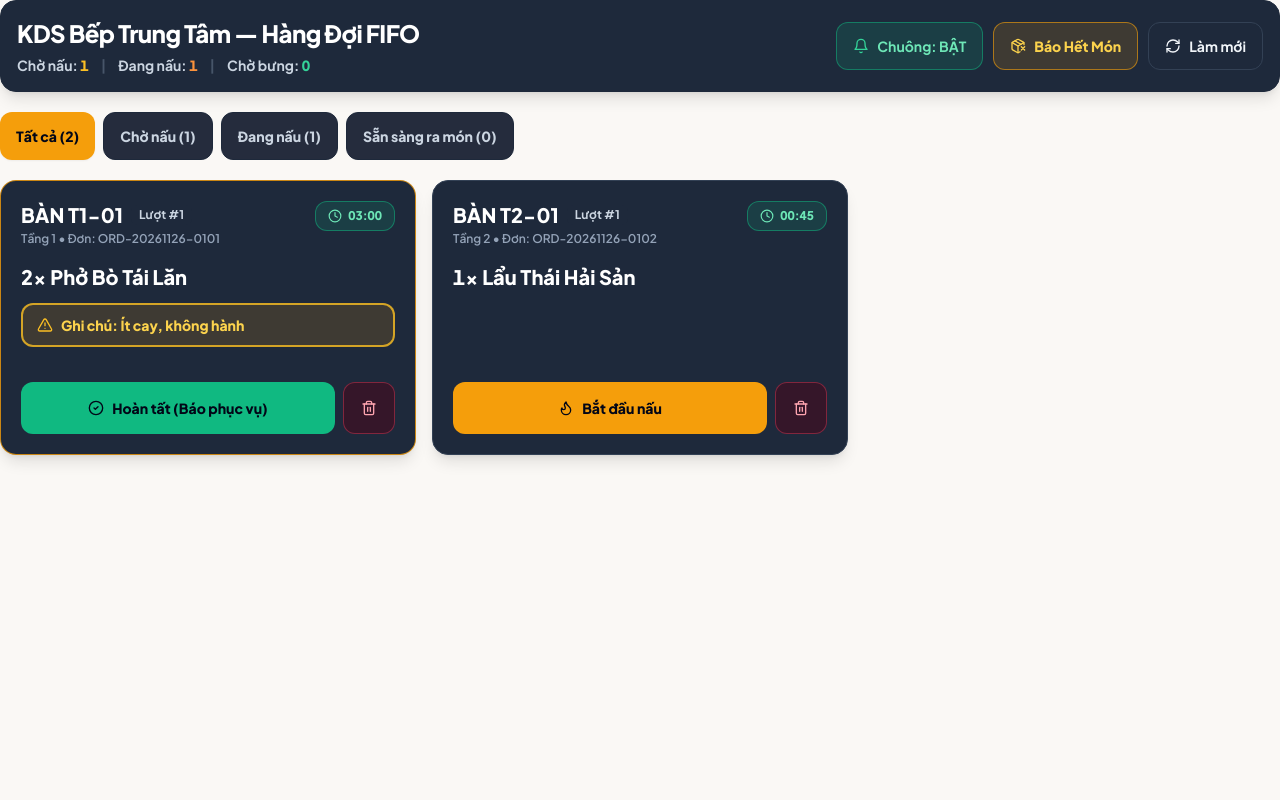
Scenario: KdsBoardPage › renders FIFO tickets with spice notes, transitions COOKING -> READY, and toggles Out-of-Stock
Check: the text "2× Phở Bò Tái Lăn" is shown, box [21,264,187,289]
Check: the text "Ghi chú: Ít cay, không hành" is shown, box [61,314,244,334]
Click the button "Hoàn tất (Báo phục vụ)".
click(178, 408)  # box [21,382,335,434]
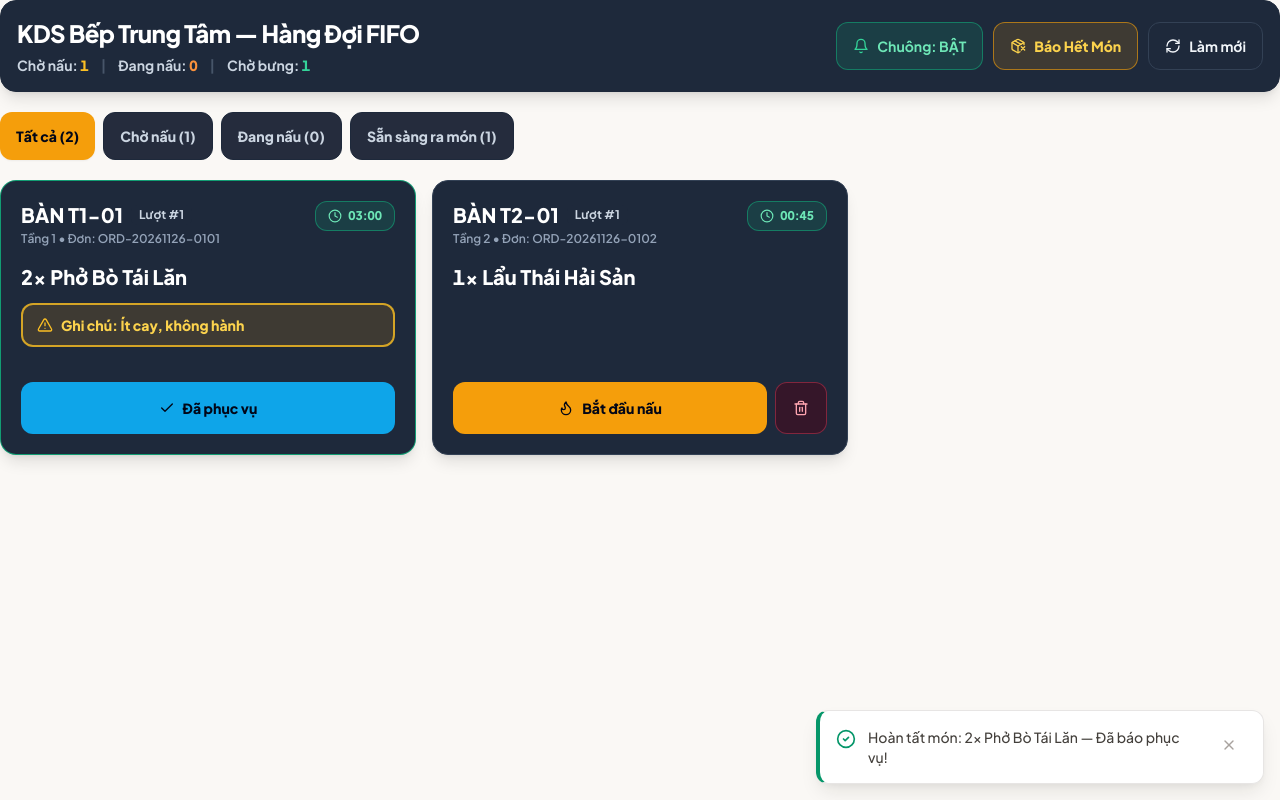
Check: the button "Đã phục vụ" is shown, box [21,382,395,434]
Note: Open Quick Out-of-Stock Drawer ("Báo Hết Món") and lock dish
Click the button "Báo Hết Món".
click(1066, 46)  # box [993,22,1138,70]
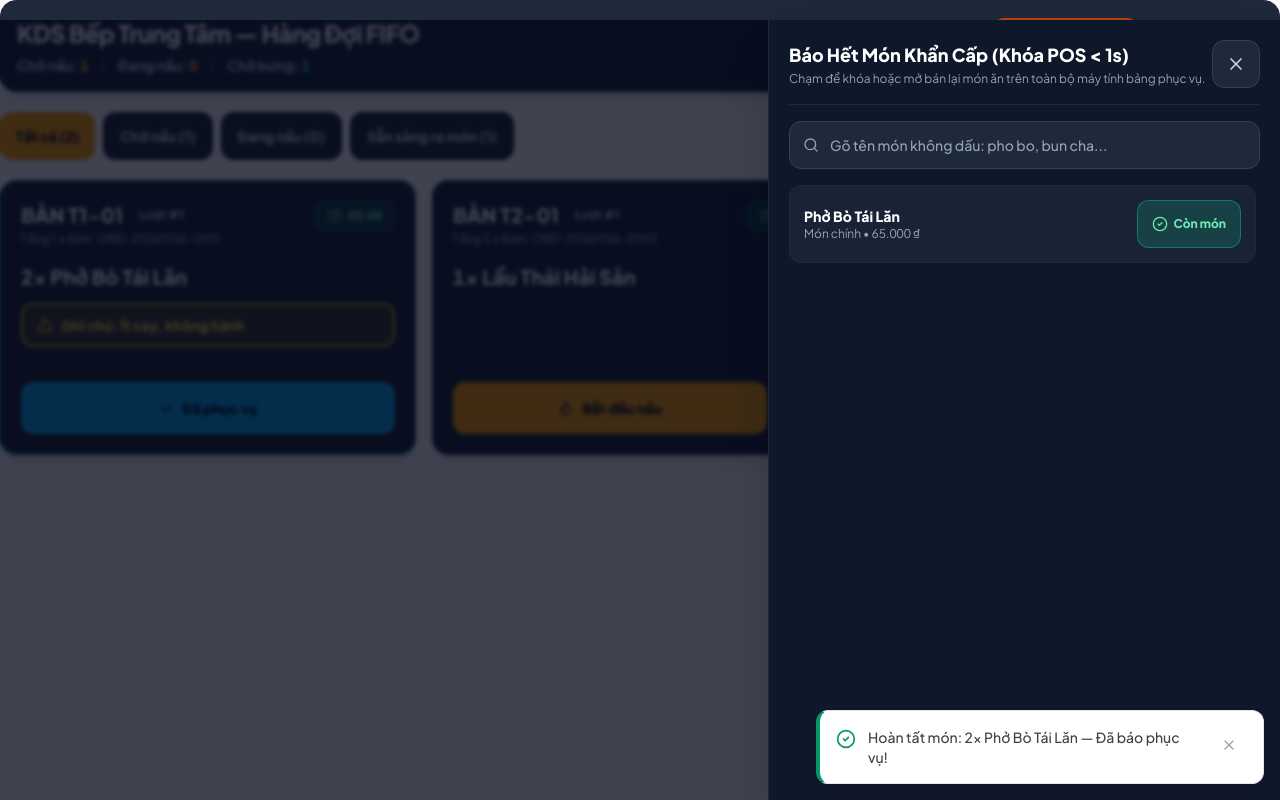
Check: the dialog is shown
Click the button with aria-label "Đổi trạng thái Phở Bò Tái Lăn".
click(1189, 224)  # box [1136,200,1241,248]
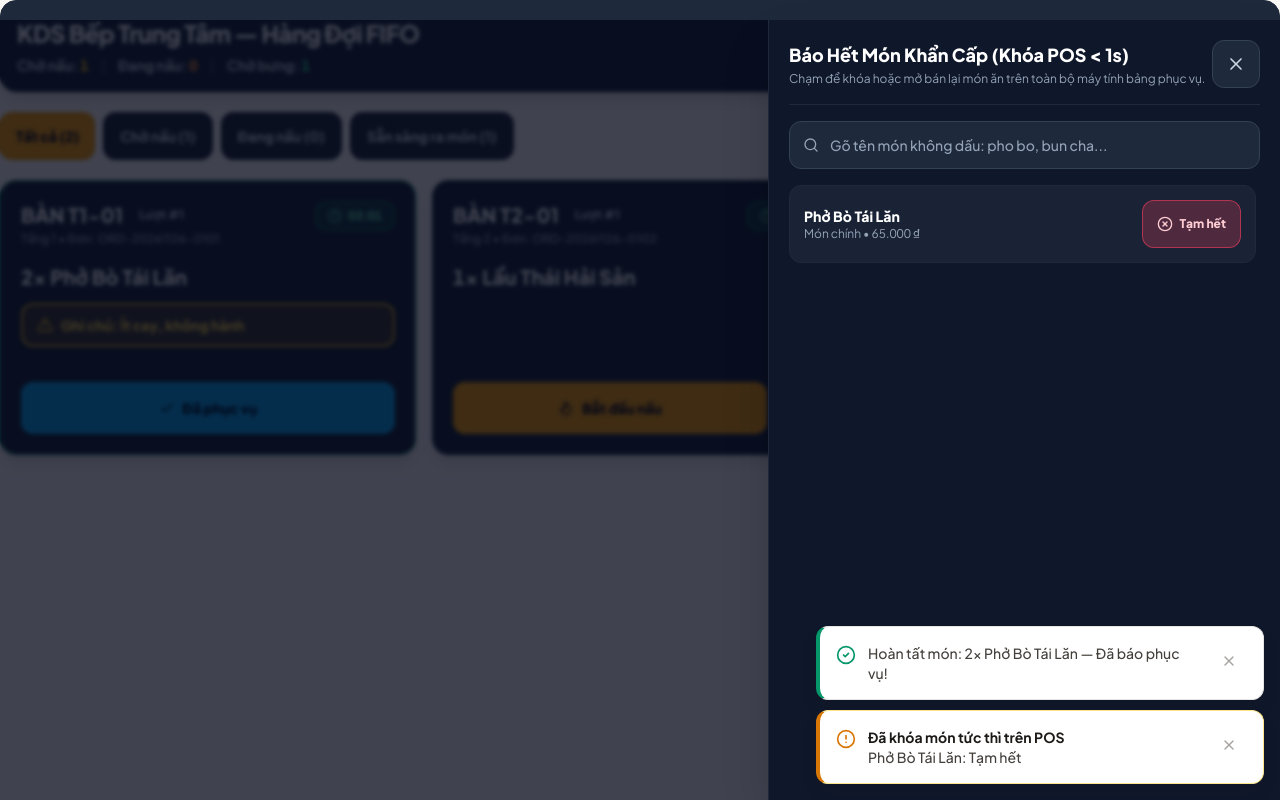
Check: the text "Tạm hết" is shown, box [1180,216,1226,232]
